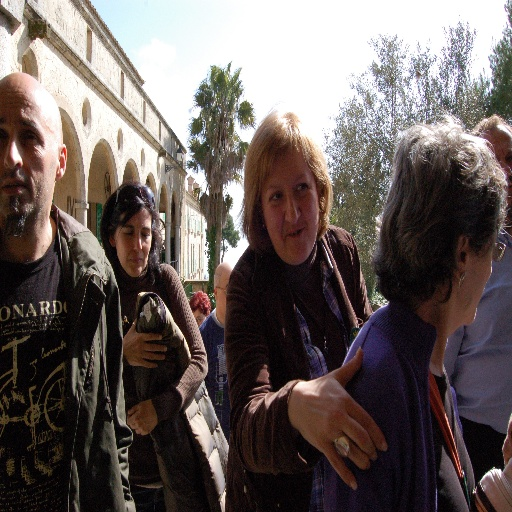hand: (288, 353, 401, 486), (121, 312, 168, 372), (125, 396, 159, 438), (501, 406, 511, 467)
